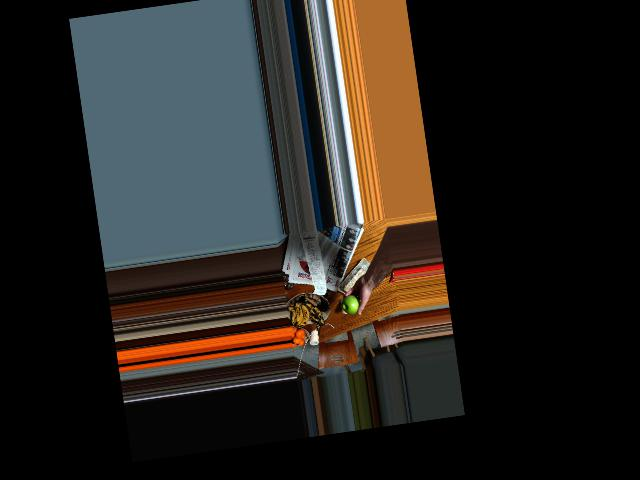apple: (339, 291, 364, 316)
